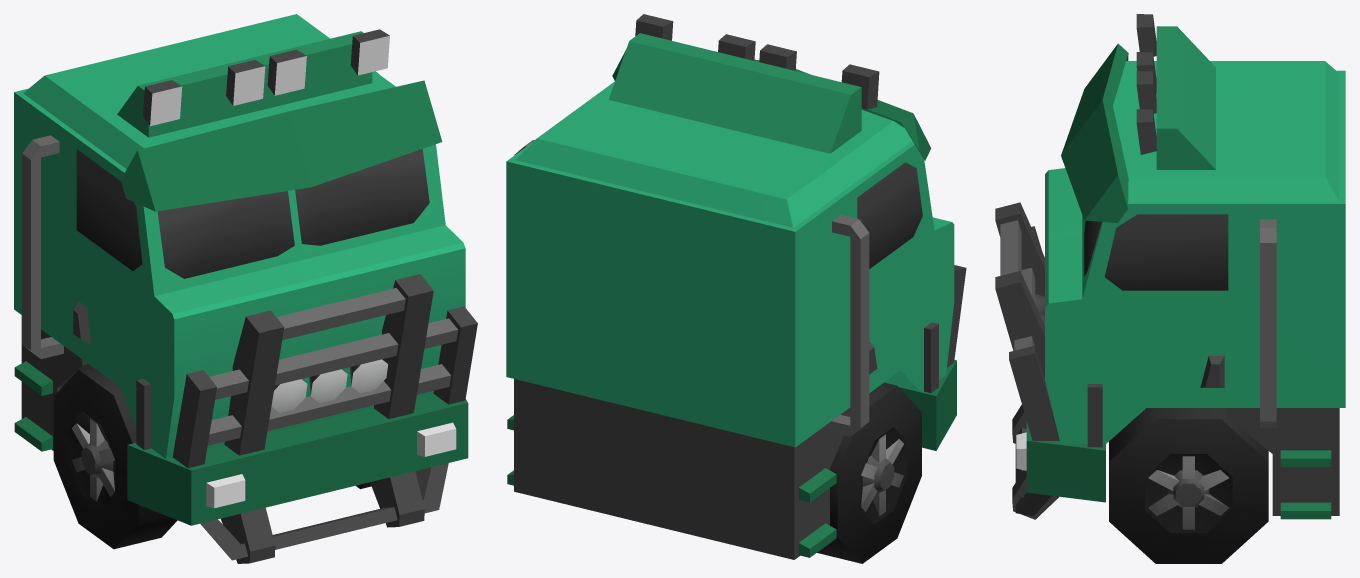
Rendered from head_G_1.fbx.
The picture shows the model from 3 angles, left to right: view 1: azimuth 30°, elevation 25°; view 2: azimuth 150°, elevation 25°; view 3: azimuth 270°, elevation 25°; orthographic projection. The views are drawn at different scales.
Visible parts, largest first — view 1: head_G_1; view 2: head_G_1; view 3: head_G_1.
Boxes of the visible parts, x1=… form: head_G_1: x1=14, y1=14, x2=477, y2=563; head_G_1: x1=506, y1=14, x2=966, y2=563; head_G_1: x1=995, y1=14, x2=1345, y2=563.
Size of the model in its own units: 1385 by 1732 by 1284.
